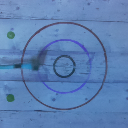Axe Tip: (29, 59, 39, 63)
